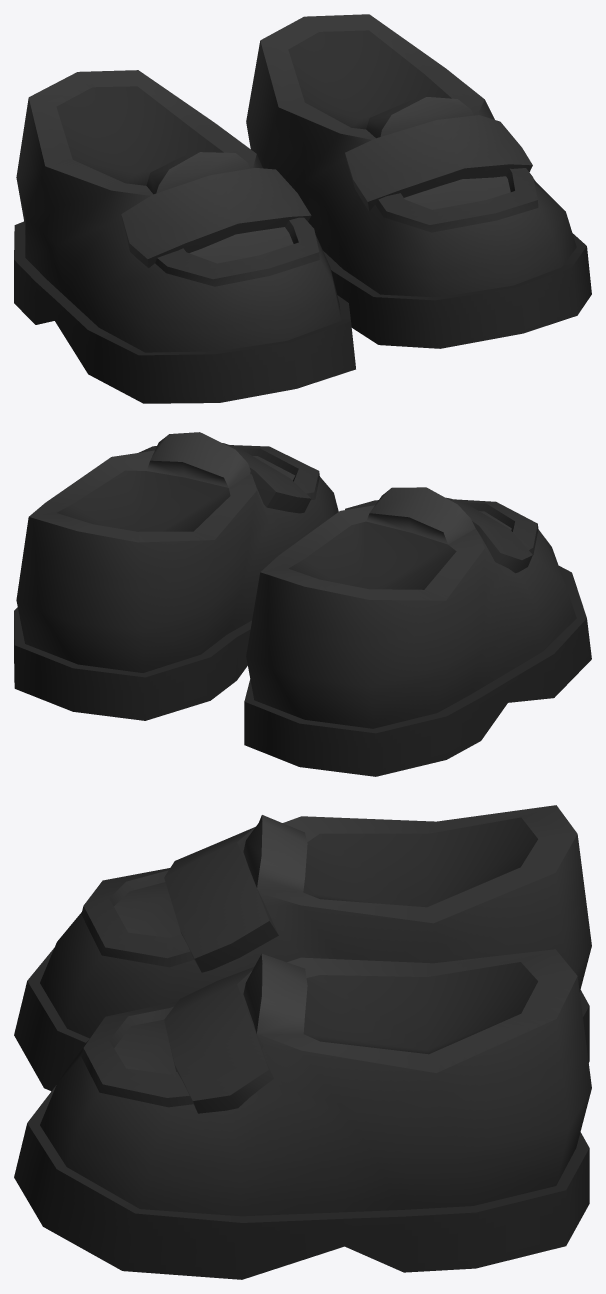
The model's file is Shoes_12.fbx.
3 renders of one model, top to bottom at view 1: azimuth 30°, elevation 25°; view 2: azimuth 150°, elevation 25°; view 3: azimuth 270°, elevation 25°, orthographic. The views are drawn at different scales.
Visible parts, largest first — view 1: Shoes_12; view 2: Shoes_12; view 3: Shoes_12.
Boxes of the visible parts, bbox=[...] form: Shoes_12: bbox=[14, 14, 591, 403]; Shoes_12: bbox=[14, 432, 591, 776]; Shoes_12: bbox=[14, 805, 591, 1279].
Size of the model in its own units: 41.82 by 16.06 by 34.92.
